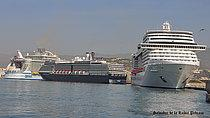Ship: (131, 18, 210, 92), (39, 56, 128, 88)
